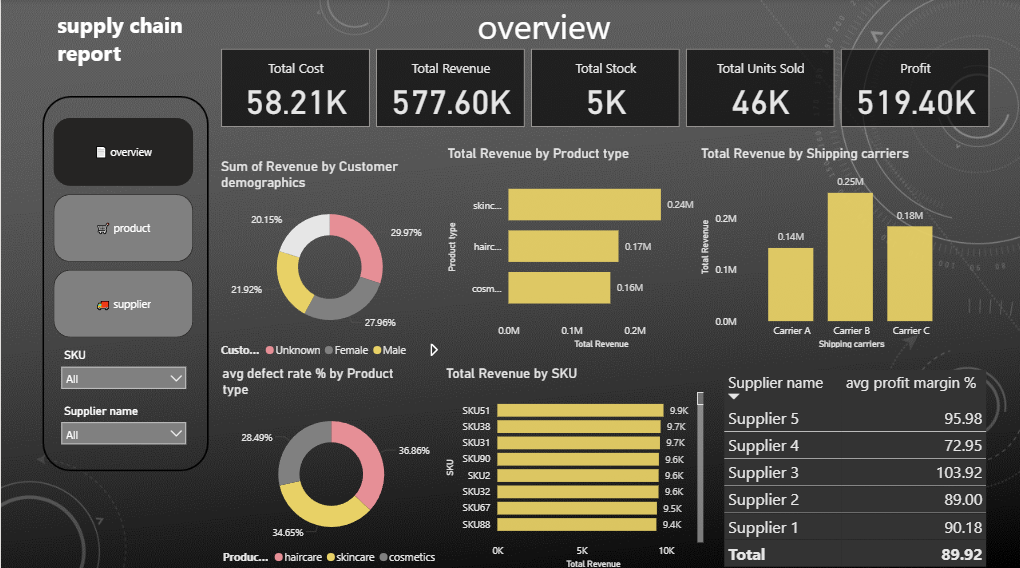

The page's visual inventory and layout, read from the dashboard file:
{"tool":"powerbi","page":{"name":"📄 overview","canvas":[1280,720],"ordinal":0},"visuals":[{"type":"cardVisual","fields":{"Data":["supply_chain_data.Total Cost","supply_chain_data.Total Revenue","supply_chain_data.Total Stock","supply_chain_data.Total Units Sold","supply_chain_data.Profit"]},"box":[270.5,58.2,973.2,109],"z":0},{"type":"pageNavigator","box":[66.1,151.1,175.7,275.9],"z":0,"group":"g1"},{"type":"textbox","box":[66.1,9.4,175.7,103.9],"z":1000,"group":"g1"},{"type":"donutChart","fields":{"Y":["Sum(supply_chain_data.Revenue)"],"Category":["supply_chain_data.Customer demographics"]},"box":[270.5,201,281.8,259.3],"z":1000},{"type":"slicer","fields":{"Values":["supply_chain_data.SKU"]},"box":[66.1,434.6,175.7,136.1],"z":2000,"group":"g1"},{"type":"donutChart","fields":{"Y":["supply_chain_data.avg defect rate %"],"Category":["supply_chain_data.Product type"]},"box":[272.4,460.3,281.8,259.3],"z":2000},{"type":"clusteredBarChart","fields":{"Y":["supply_chain_data.Total Revenue"],"Category":["supply_chain_data.Product type"]},"box":[554.2,184.1,332.5,259.3],"z":3000},{"type":"slicer","fields":{"Values":["supply_chain_data.Supplier name"]},"box":[66.1,502.6,175.7,136.1],"z":3000,"group":"g1"},{"type":"clusteredBarChart","fields":{"Y":["supply_chain_data.Total Revenue"],"Category":["supply_chain_data.SKU"]},"box":[552.3,460.3,332.5,259.3],"z":4000},{"type":"columnChart","fields":{"Category":["supply_chain_data.Shipping carriers"],"Y":["supply_chain_data.Total Revenue"]},"box":[871.7,184.1,332.5,259.3],"z":5000},{"type":"tableEx","fields":{"Values":["supply_chain_data.Supplier name","supply_chain_data.avg profit margin %"]},"box":[899.9,460.3,345.7,259.3],"z":6000},{"type":"textbox","box":[591.8,0,295,95.8],"z":7000},{"type":"group","id":"g1","title":"Group 1","box":[66.1,9.4,175.7,629.3],"z":8000}]}

Visuals, with their boxes in screenshot pixels (x1, y1, x2, y2), scaled from the page's 1280x720 canvas onto the 1020x568 screenshot:
cardVisual - supply_chain_data.Total Cost x supply_chain_data.Total Revenue: <region>216, 46, 991, 132</region>
pageNavigator: <region>53, 119, 193, 337</region>
textbox: <region>53, 7, 193, 89</region>
donutChart - Sum(supply_chain_data.Revenue) x supply_chain_data.Customer demographics: <region>216, 159, 440, 363</region>
slicer - supply_chain_data.SKU: <region>53, 343, 193, 450</region>
donutChart - supply_chain_data.avg defect rate % x supply_chain_data.Product type: <region>217, 363, 442, 567</region>
clusteredBarChart - supply_chain_data.Total Revenue x supply_chain_data.Product type: <region>442, 145, 707, 350</region>
slicer - supply_chain_data.Supplier name: <region>53, 396, 193, 504</region>
clusteredBarChart - supply_chain_data.Total Revenue x supply_chain_data.SKU: <region>440, 363, 705, 567</region>
columnChart - supply_chain_data.Shipping carriers x supply_chain_data.Total Revenue: <region>695, 145, 960, 350</region>
tableEx - supply_chain_data.Supplier name x supply_chain_data.avg profit margin %: <region>717, 363, 993, 567</region>
textbox: <region>472, 0, 707, 76</region>
"Group 1" group: <region>53, 7, 193, 504</region>
